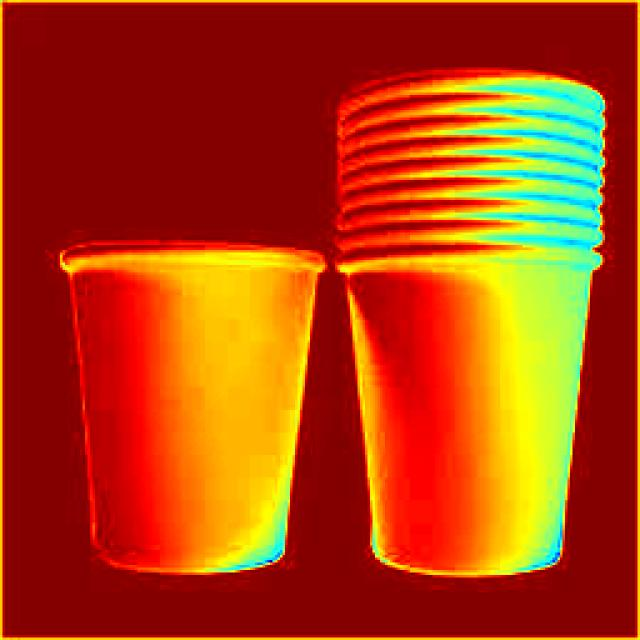Paper Cups: (325, 71, 624, 598), (47, 238, 327, 592)
